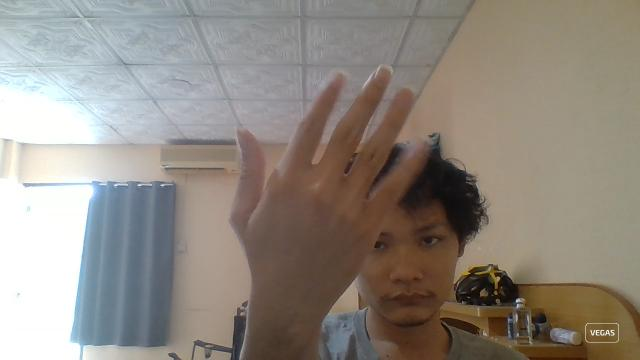backword: (227, 63, 429, 355)
